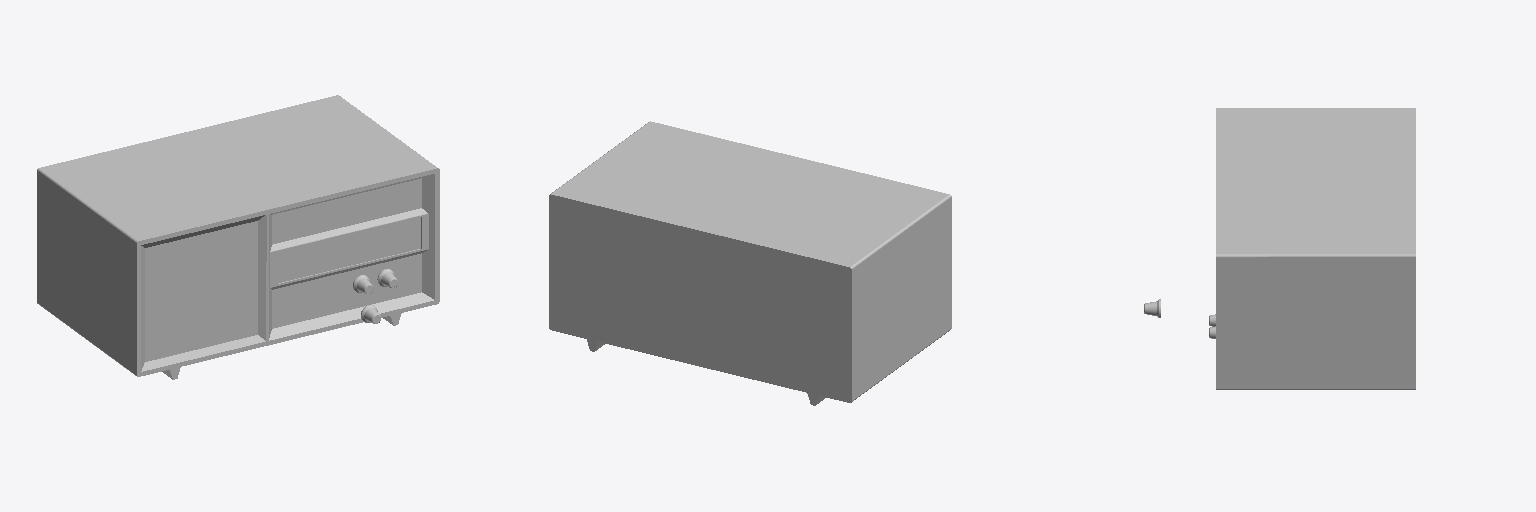
File: 收音机.obj
The picture shows the model from 3 angles: view 1: azimuth 30°, elevation 25°; view 2: azimuth 150°, elevation 25°; view 3: azimuth 270°, elevation 25°; orthographic projection.
Parts seen in each view (by area): view 1: Radio; view 2: Radio; view 3: Radio.
Part boxes in pixels (x1,y1,x2,y2): Radio: (37,95,439,379); Radio: (549,121,951,405); Radio: (1144,108,1415,389).
Size of the model in its own units: 26.38 by 12.45 by 20.47.